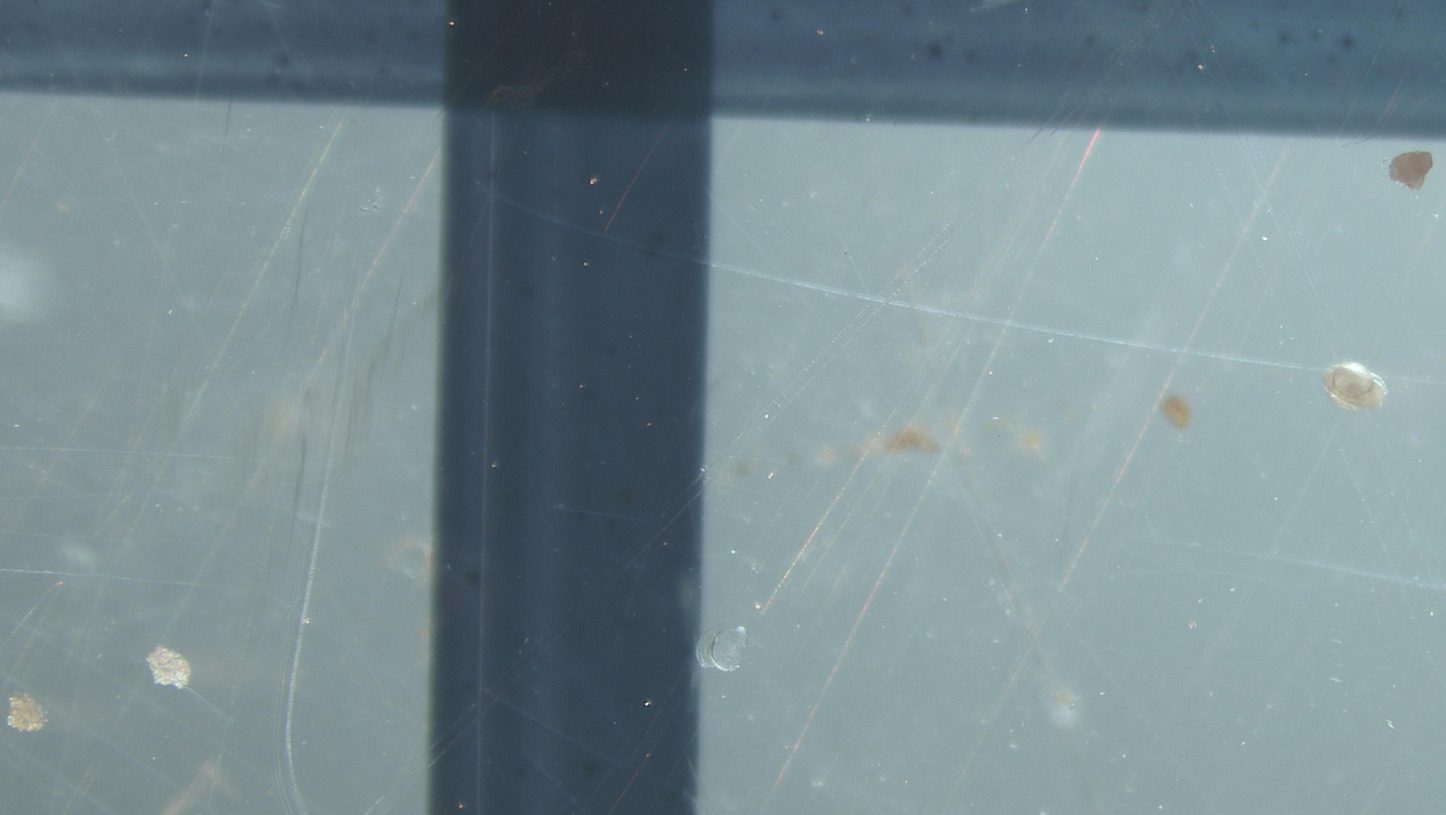dead: (697, 627, 747, 672)
live: (1322, 362, 1387, 410)
